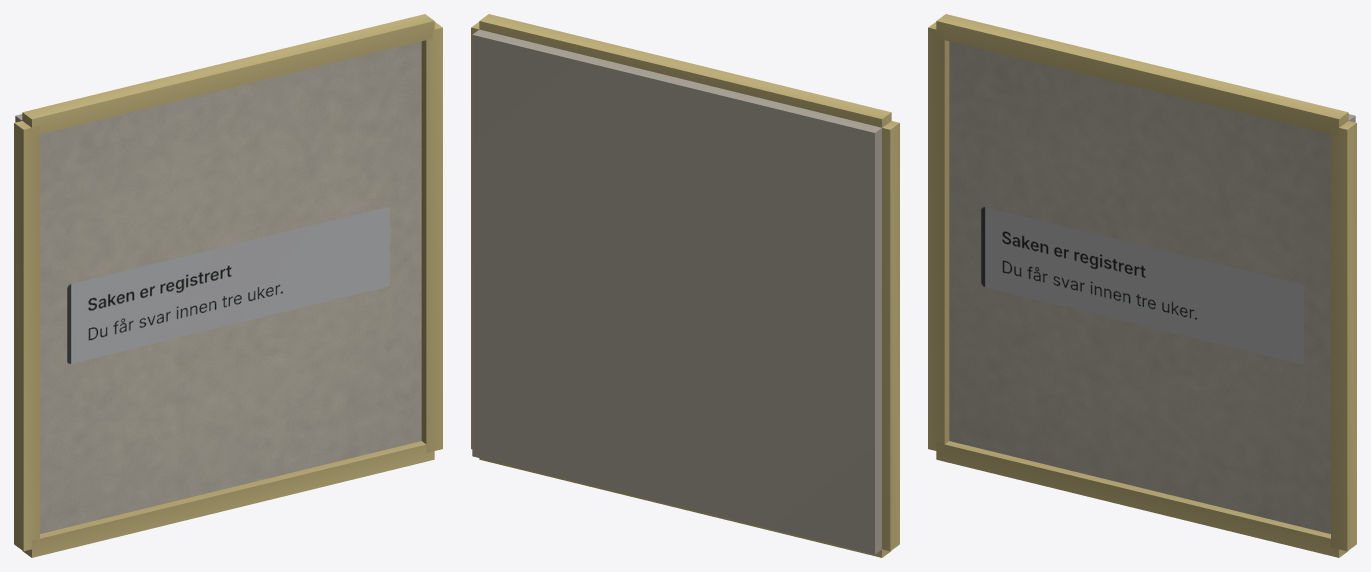
The model's file is gallery_alert.glb.
3 renders of one model, left to right at view 1: azimuth 30°, elevation 25°; view 2: azimuth 150°, elevation 25°; view 3: azimuth 330°, elevation 25°, orthographic.
Visible parts, largest first — view 1: plate; view 2: plate; view 3: plate.
Part boxes in pixels (bbox=[...]): plate: bbox=[14, 14, 442, 557]; plate: bbox=[471, 14, 899, 557]; plate: bbox=[928, 14, 1356, 557].
Size of the model in its own units: 0.51 by 0.51 by 0.035.
Materials: 2 (1 with a texture image).
